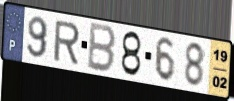6: (154, 36, 176, 84)
8: (184, 40, 207, 89), (121, 30, 143, 78)
9: (26, 15, 50, 60)
B: (85, 20, 118, 75)
R: (52, 19, 81, 66)
